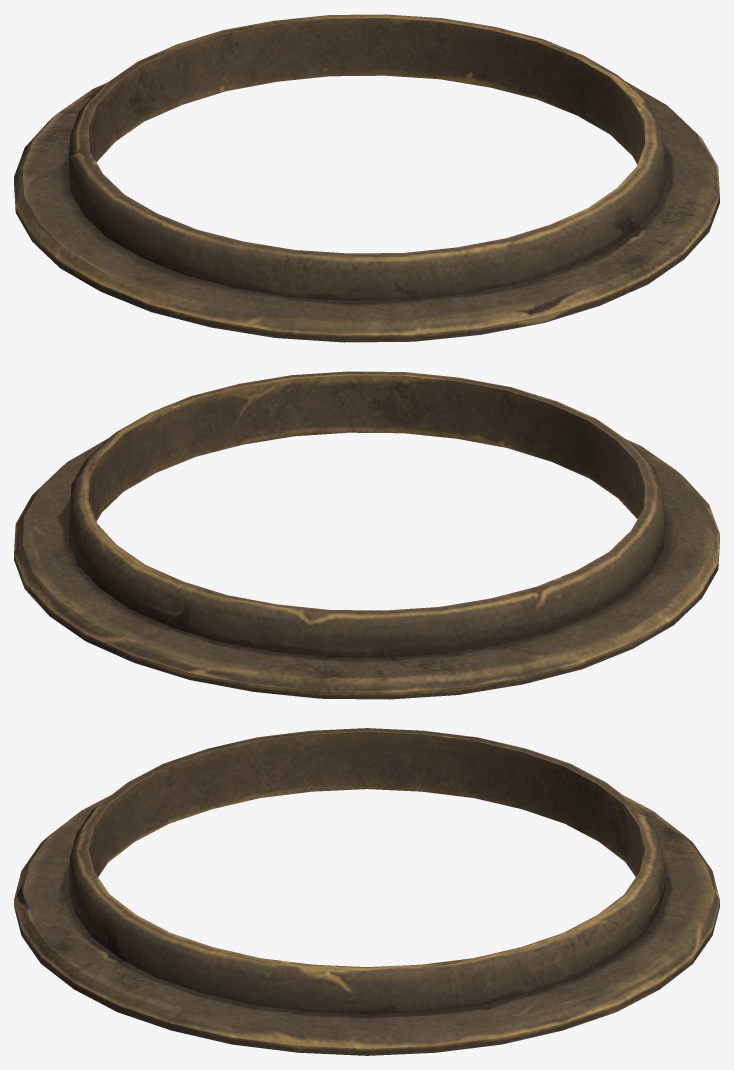
File: Fan2.fbx
3 views of the same model, one above another, from view 1: azimuth 30°, elevation 25°; view 2: azimuth 150°, elevation 25°; view 3: azimuth 270°, elevation 25° (orthographic).
Parts seen in each view (by area): view 1: Cube.029; view 2: Cube.029; view 3: Cube.029.
Part boxes in pixels (left/top/right/bottom): Cube.029: left=14, top=14, right=719, bottom=342; Cube.029: left=14, top=371, right=719, bottom=699; Cube.029: left=14, top=728, right=719, bottom=1055.
Bounding box in the file's own units: 549 × 49.58 × 549.
